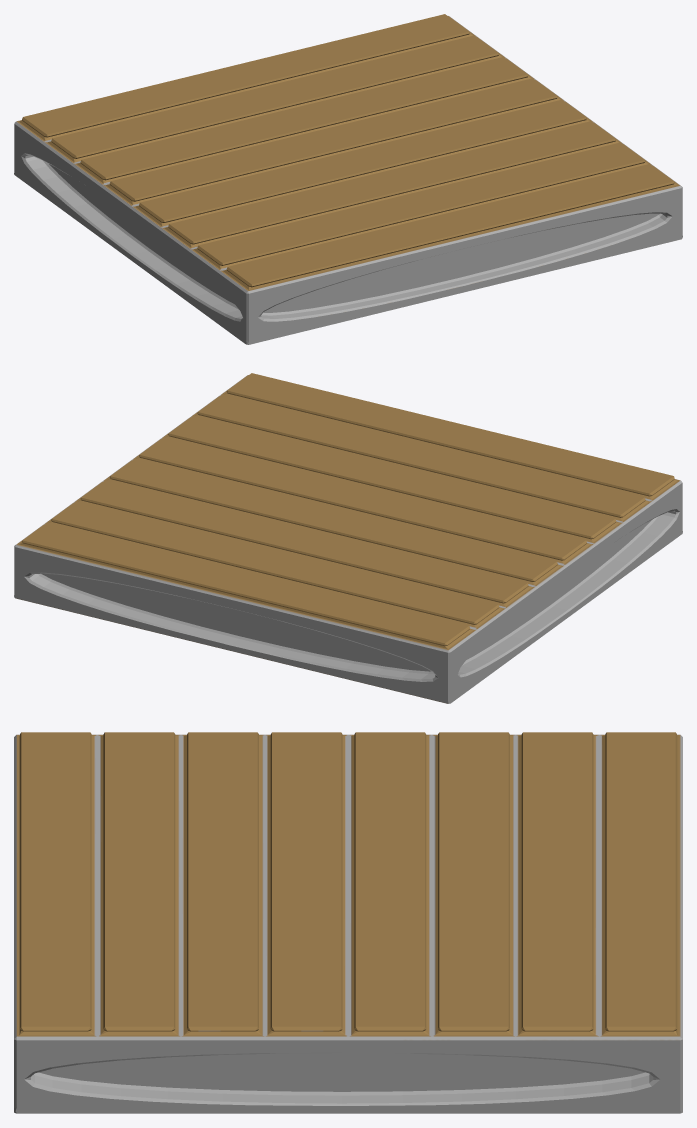
The model's file is Chao.fbx.
3 renders of one model, top to bottom at view 1: azimuth 30°, elevation 25°; view 2: azimuth 150°, elevation 25°; view 3: azimuth 270°, elevation 25°, orthographic. The views are drawn at different scales.
Parts seen in each view (by area): view 1: Chão; view 2: Chão; view 3: Chão.
Part boxes in pixels (box(x1,y1,x2,y2)): Chão: box(14, 14, 682, 344); Chão: box(14, 373, 682, 703); Chão: box(14, 732, 682, 1113).
Size of the model in its own units: 1723 by 216 by 1600.
